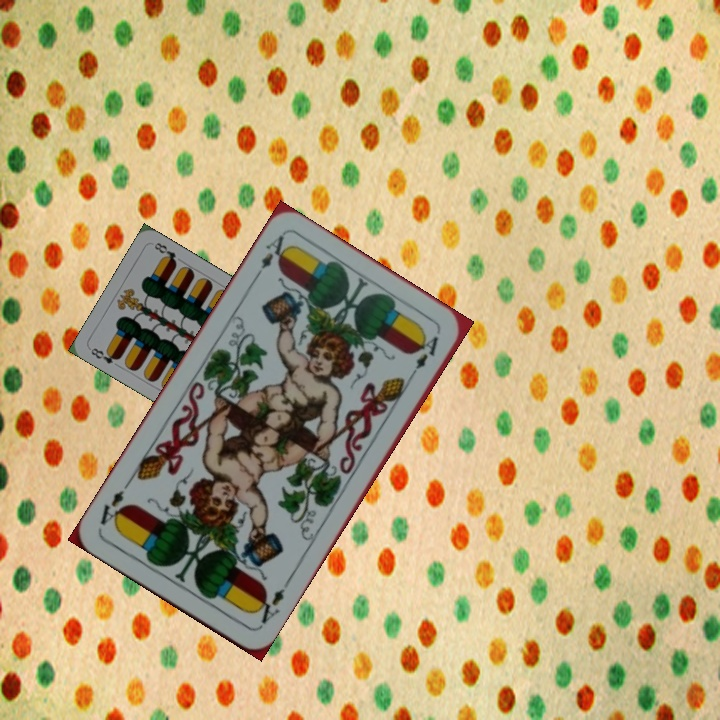E8: (87, 344, 122, 366)
EA: (248, 577, 292, 630), (249, 230, 292, 284)
